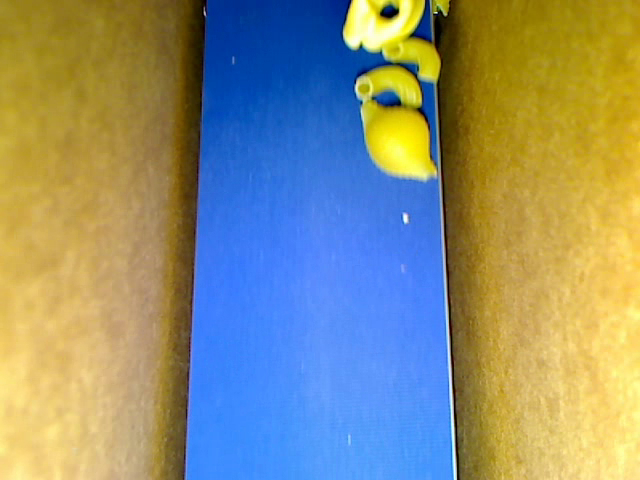elbow: (354, 65, 422, 109), (381, 37, 441, 83)
shell: (361, 98, 438, 182)
tortellini: (342, 1, 426, 54)
